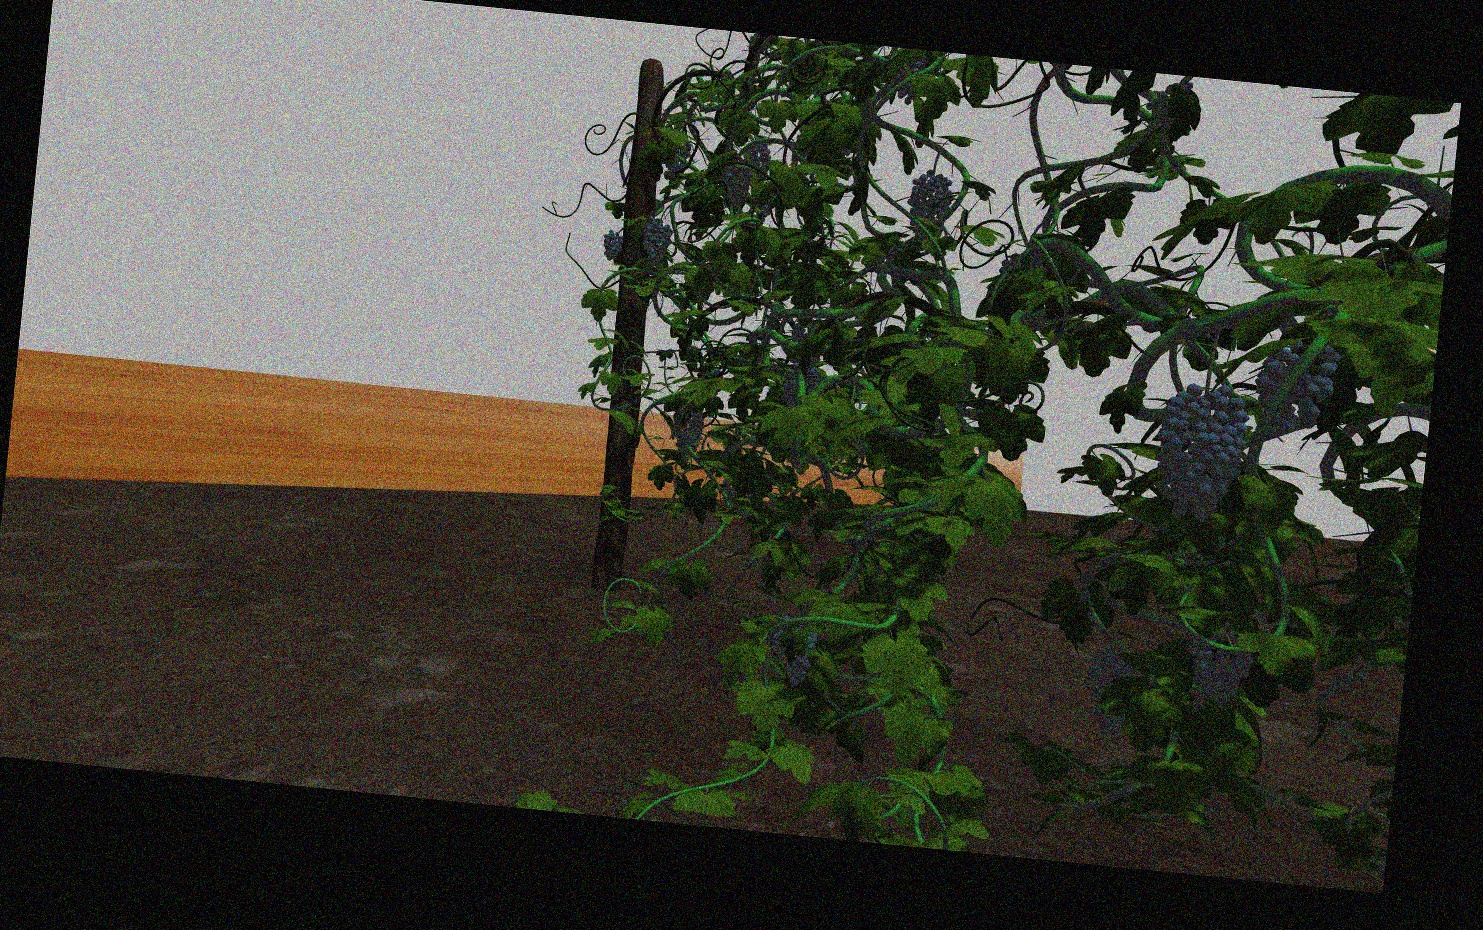grape: (1156, 384, 1250, 523), (1259, 339, 1337, 438), (1084, 651, 1143, 748), (1184, 632, 1250, 708), (772, 619, 817, 686), (909, 169, 953, 231), (673, 410, 706, 457), (642, 217, 674, 266), (719, 164, 751, 206), (745, 142, 772, 178), (601, 228, 624, 260)
